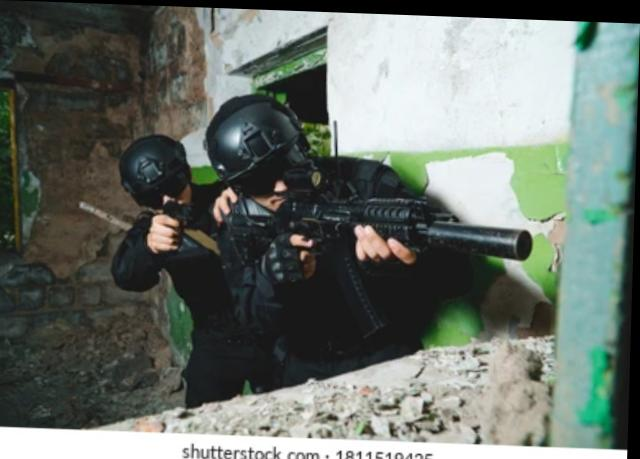other: (197, 51, 449, 383), (114, 135, 250, 393)
